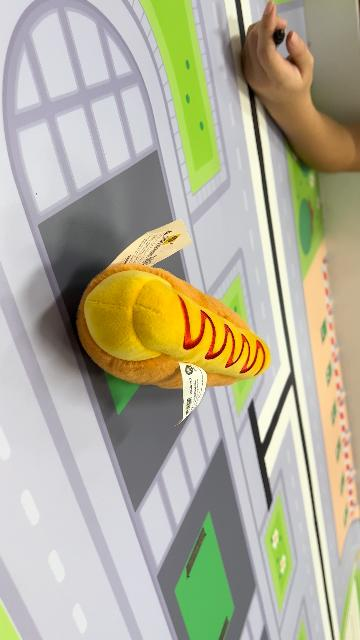hotdog: (75, 263, 272, 392)
